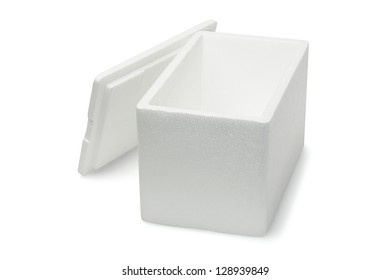Foam Box: (74, 17, 312, 240)
